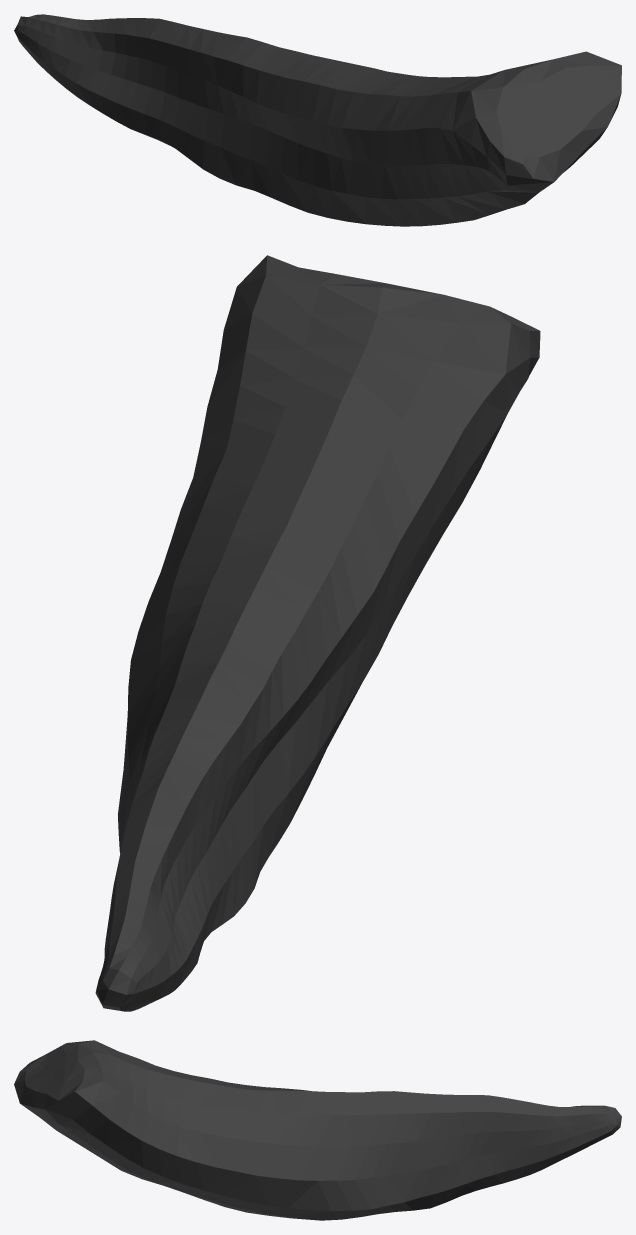
Rendered from L_mand_I2.glb.
The picture shows the model from 3 angles, top to bottom: view 1: azimuth 30°, elevation 25°; view 2: azimuth 150°, elevation 25°; view 3: azimuth 270°, elevation 25°; orthographic projection. The views are drawn at different scales.
Parts seen in each view (by area): view 1: L_mand_I2; view 2: L_mand_I2; view 3: L_mand_I2.
Boxes of the visible parts, left/top/right/bottom form: L_mand_I2: left=14, top=14, right=621, bottom=226; L_mand_I2: left=95, top=255, right=540, bottom=1011; L_mand_I2: left=14, top=1040, right=621, bottom=1220.
Size of the model in its own units: 0.1187 by 0.1013 by 0.3005.
Materials: 1 (1 with a texture image).
